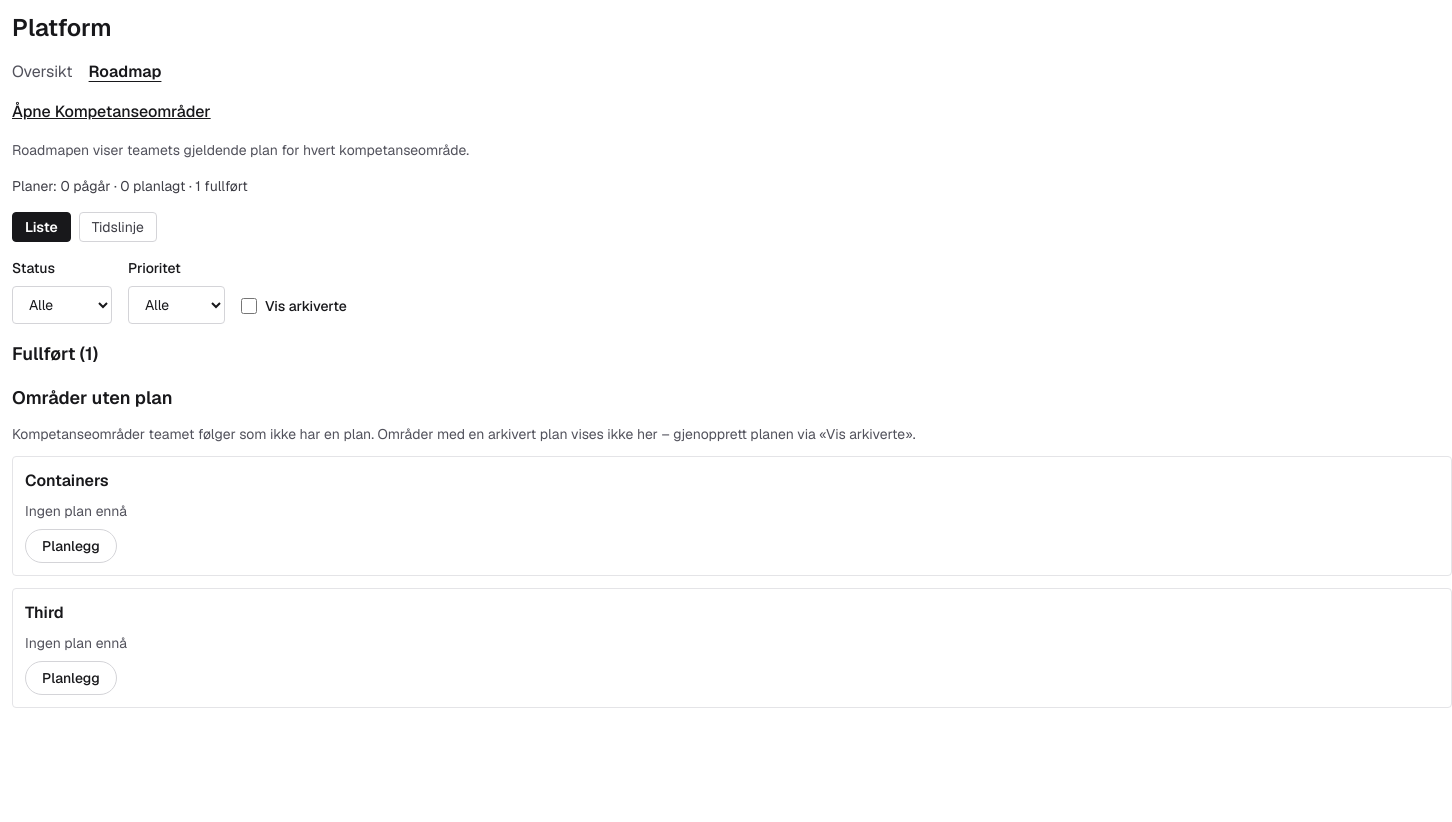
Test: Roadmap page edge states — untracked plans › keeps an untracked legacy completed plan fully read-only without the editable-fields claim
Expected: the checkbox labelled "Vis arkiverte" is shown, [241,298,257,314]
Click the button "Fullført (1)": coordinates (55, 354) [12,340,98,368]
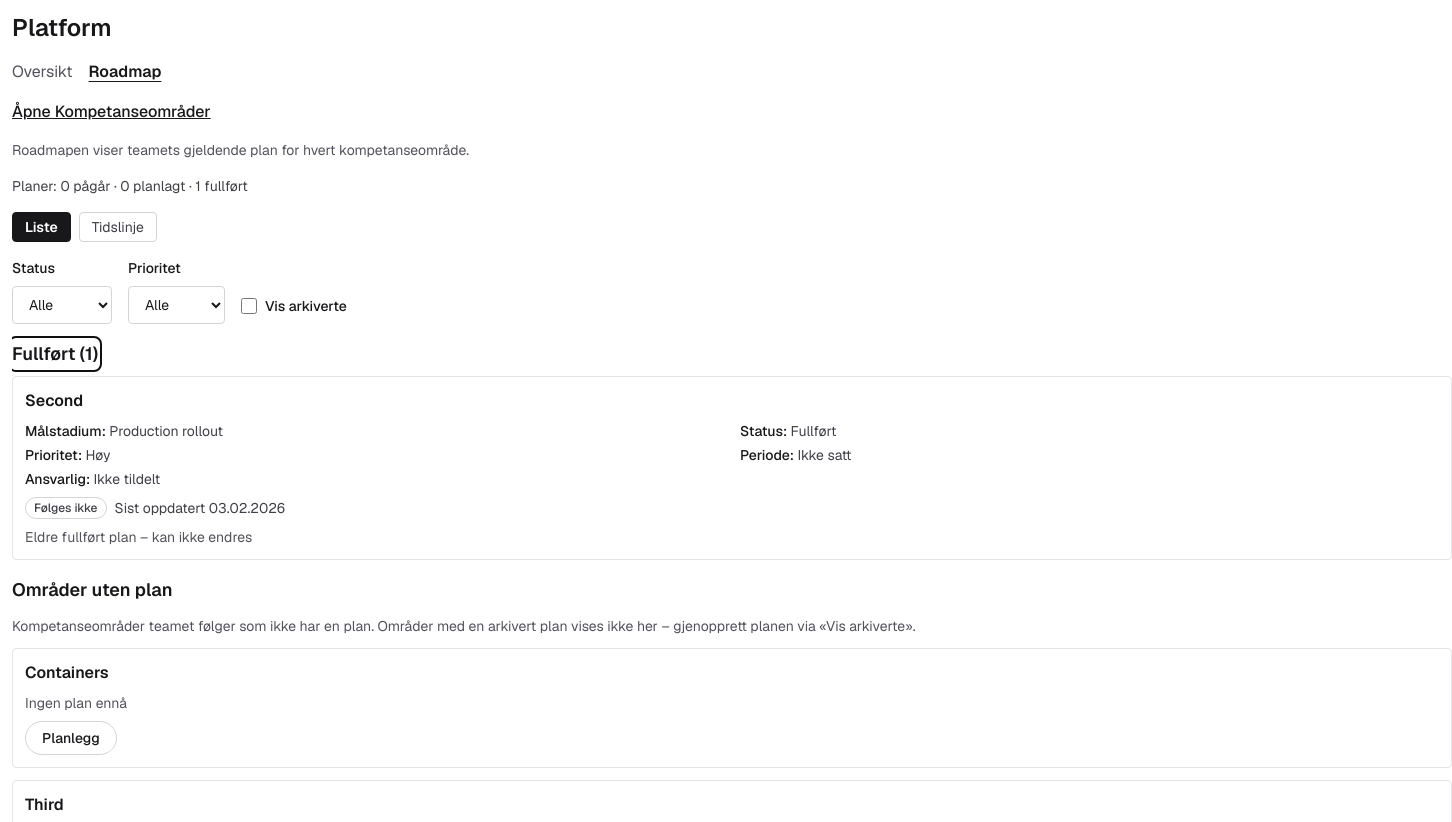
Result: the element "Second" shows "Eldre fullført plan – kan ikke endres" at [25,528,252,546]
